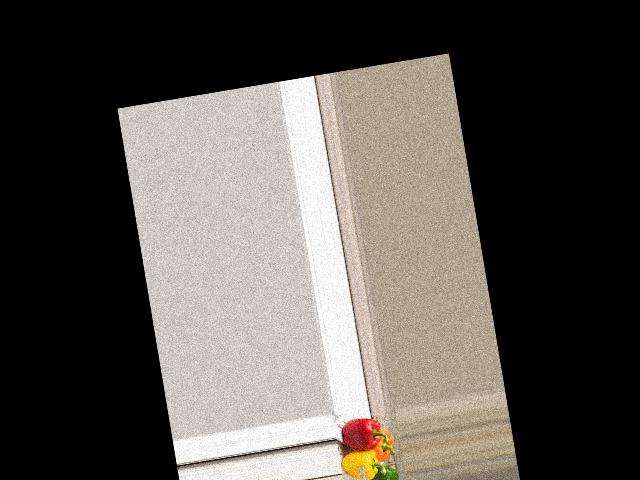bell_pepper: (369, 427, 397, 464)
